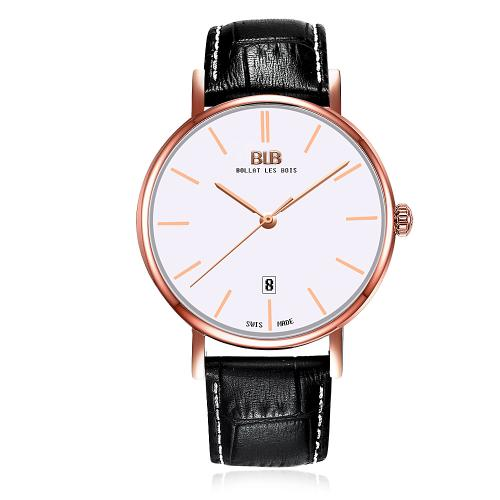watch: (129, 12, 417, 480)
